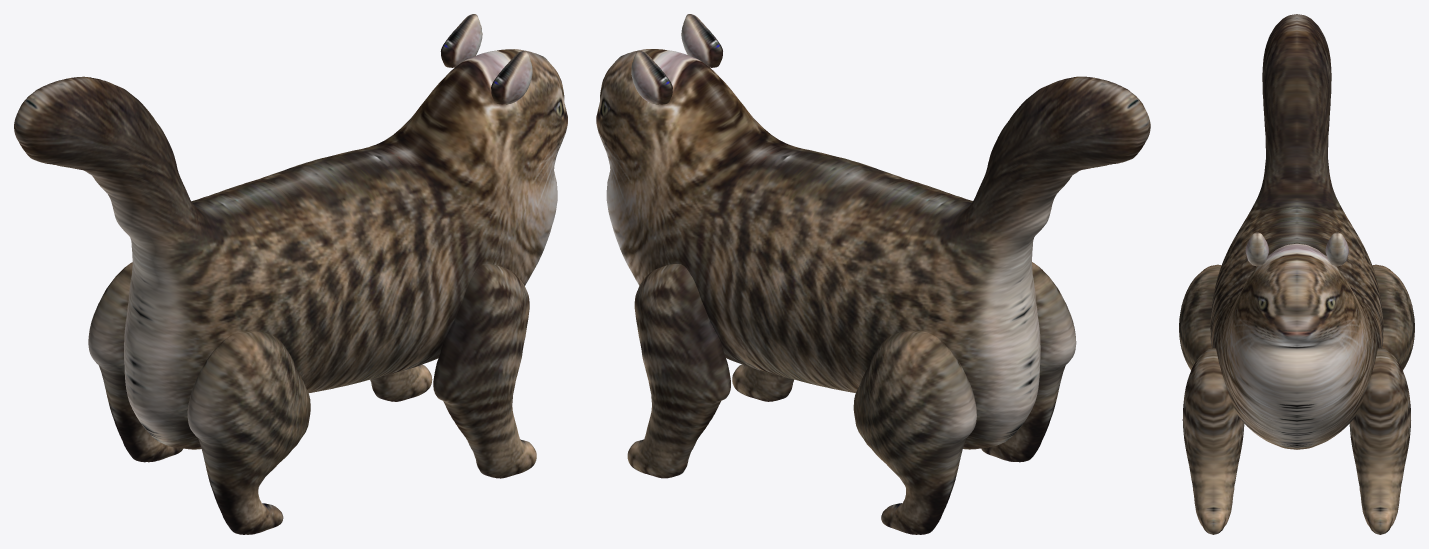
The model's file is siberian_cat.glb.
The picture shows the model from 3 angles, left to right: view 1: azimuth 30°, elevation 25°; view 2: azimuth 150°, elevation 25°; view 3: azimuth 270°, elevation 25°; orthographic projection. The views are drawn at different scales.
Bounding box in the file's own units: 9.44 × 7.41 × 4.43.
Materials: 1 (1 with a texture image).
